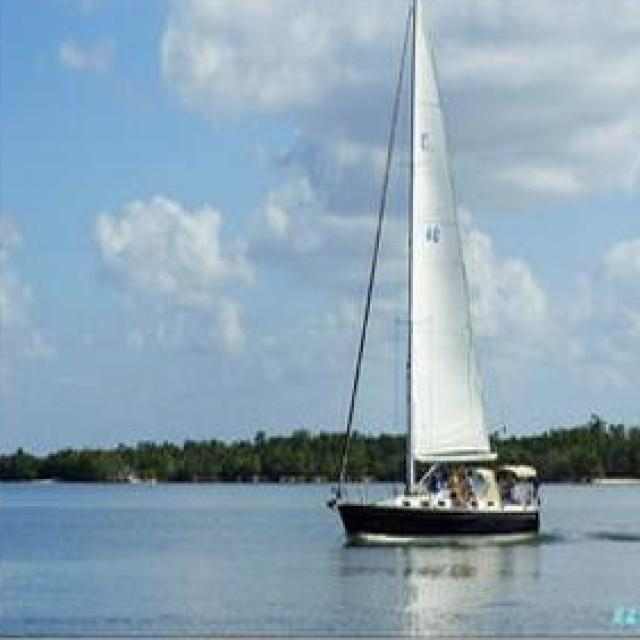sailboat: (351, 14, 553, 550)
